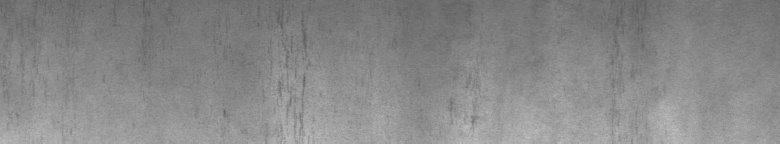ka: (223, 31, 306, 128)
